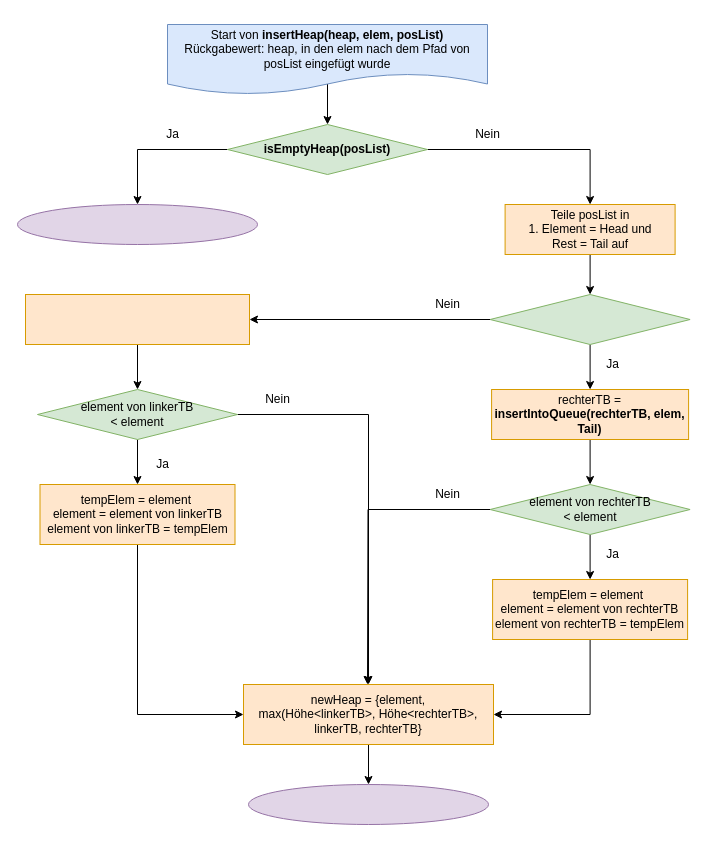
This 708x842 diagram has some shape labels left out. Here are the shapes that lost their labels. From the top down, the centre of each, then its label:
pixel 137 224: return {elem, 1, { },{ }}
pixel 137 319: linkerTB = insertHeap (linkerTB, elem, Tail)
pixel 589 319: Head == "r"
pixel 368 804: return newHeap
